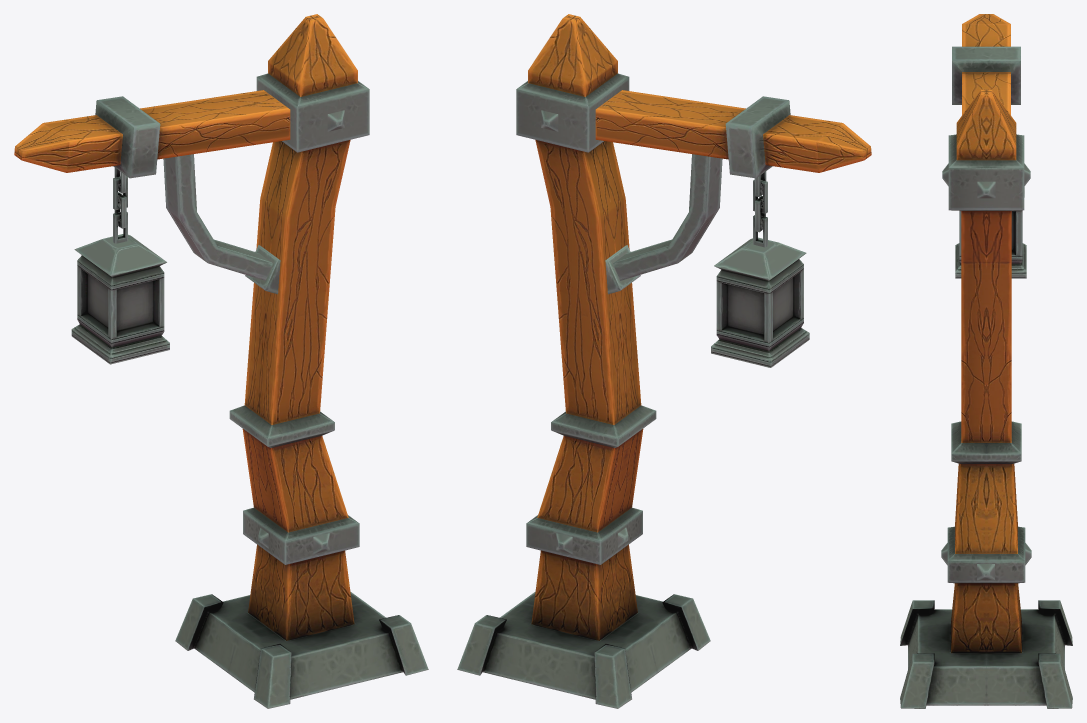
The model's file is stylized_lamp.glb.
3 views of the same model, side by side, from view 1: azimuth 30°, elevation 25°; view 2: azimuth 150°, elevation 25°; view 3: azimuth 270°, elevation 25° (orthographic). The views are drawn at different scales.
Parts seen in each view (by area): view 1: lamp6_low, lamp10_low, lamp7_low, lamp8_low, lamp11_low, lamp9_low; view 2: lamp6_low, lamp10_low, lamp7_low, lamp8_low, lamp11_low, lamp9_low; view 3: lamp6_low, lamp10_low, lamp7_low, lamp5_low, lamp4_low.
Boxes of the visible parts, <box> form: lamp6_low: <box>175,14,428,708</box>; lamp10_low: <box>14,90,290,178</box>; lamp7_low: <box>71,234,169,364</box>; lamp8_low: <box>163,154,272,280</box>; lamp11_low: <box>113,168,127,243</box>; lamp9_low: <box>245,245,280,294</box>; lamp6_low: <box>457,14,710,708</box>; lamp10_low: <box>595,90,871,178</box>; lamp7_low: <box>711,237,809,367</box>; lamp8_low: <box>613,154,722,280</box>; lamp11_low: <box>753,171,767,247</box>; lamp9_low: <box>605,245,640,294</box>; lamp6_low: <box>900,89,1072,708</box>; lamp10_low: <box>952,14,1020,114</box>; lamp7_low: <box>955,187,1026,278</box>; lamp5_low: <box>977,181,995,198</box>; lamp4_low: <box>977,564,994,580</box>.
Bounding box in the file's own units: 15.44 × 25.64 × 6.86.
1 material, 1 textured.
